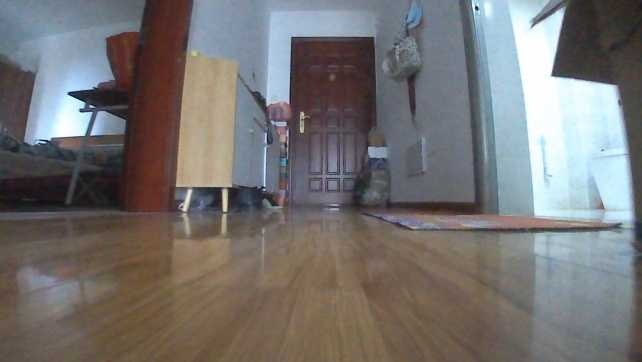bed: (0, 125, 129, 210)
blanket: (355, 201, 623, 236)
door_anno: (282, 32, 384, 210)
door_sill: (0, 205, 131, 221)
toilet: (585, 144, 634, 214)
